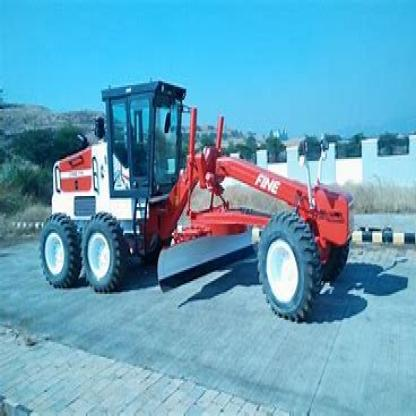bull_dozer/loader/grader: (23, 72, 346, 318)
